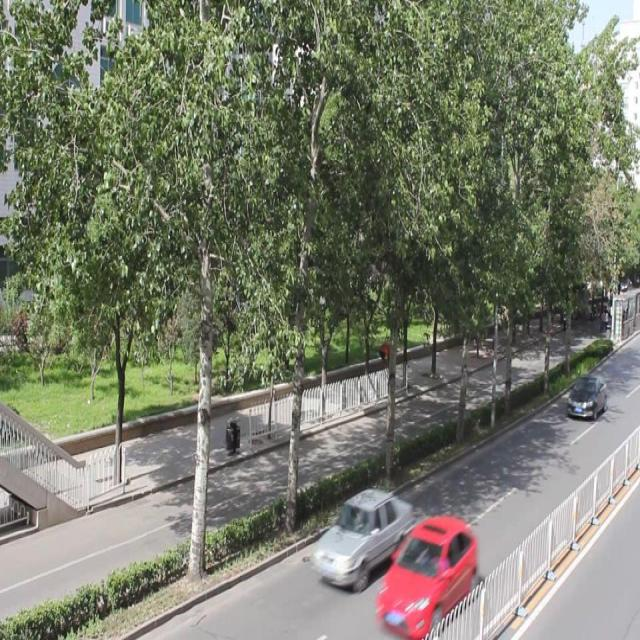car: (374, 513, 475, 640), (315, 487, 413, 584), (566, 370, 605, 416)
